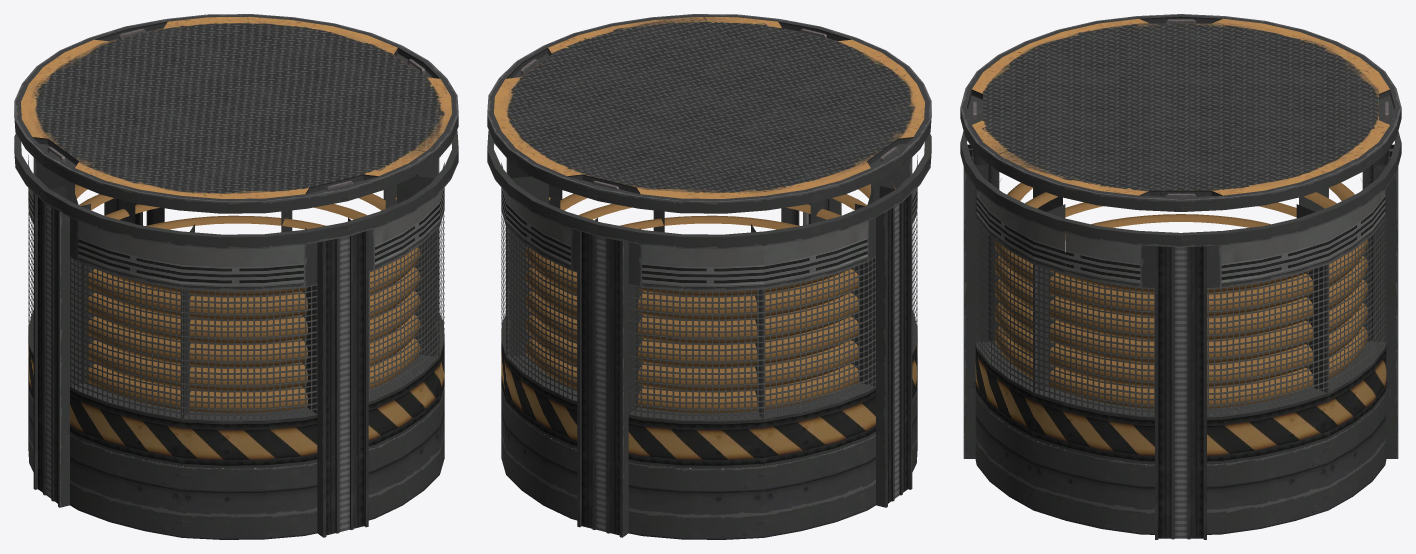
3 views of the same model, side by side, from view 1: azimuth 30°, elevation 25°; view 2: azimuth 150°, elevation 25°; view 3: azimuth 270°, elevation 25° (orthographic).
Visible parts, largest first — view 1: body0_model0_lod0_mesh8, body0_model0_lod0_mesh2, body0_model0_lod0_mesh9, body0_model0_lod0_mesh0, body0_model0_lod0_mesh1, body0_model0_lod0_mesh6, body0_model0_lod0_mesh7, body0_model0_lod0_mesh5, body0_model0_lod0_mesh3; view 2: body0_model0_lod0_mesh8, body0_model0_lod0_mesh2, body0_model0_lod0_mesh9, body0_model0_lod0_mesh0, body0_model0_lod0_mesh1, body0_model0_lod0_mesh6, body0_model0_lod0_mesh7, body0_model0_lod0_mesh5, body0_model0_lod0_mesh3; view 3: body0_model0_lod0_mesh2, body0_model0_lod0_mesh8, body0_model0_lod0_mesh9, body0_model0_lod0_mesh0, body0_model0_lod0_mesh6, body0_model0_lod0_mesh1, body0_model0_lod0_mesh7, body0_model0_lod0_mesh5, body0_model0_lod0_mesh3.
Boxes of the visible parts, x1=… form: body0_model0_lod0_mesh8: x1=21, y1=16, x2=451, y2=198; body0_model0_lod0_mesh2: x1=14, y1=14, x2=458, y2=539; body0_model0_lod0_mesh9: x1=28, y1=202, x2=444, y2=421; body0_model0_lod0_mesh0: x1=50, y1=182, x2=420, y2=413; body0_model0_lod0_mesh1: x1=33, y1=176, x2=439, y2=537; body0_model0_lod0_mesh6: x1=28, y1=333, x2=444, y2=468; body0_model0_lod0_mesh7: x1=28, y1=155, x2=444, y2=287; body0_model0_lod0_mesh5: x1=28, y1=29, x2=444, y2=420; body0_model0_lod0_mesh3: x1=46, y1=204, x2=349, y2=531; body0_model0_lod0_mesh8: x1=494, y1=17, x2=924, y2=198; body0_model0_lod0_mesh2: x1=487, y1=14, x2=931, y2=539; body0_model0_lod0_mesh9: x1=501, y1=202, x2=917, y2=421; body0_model0_lod0_mesh0: x1=525, y1=182, x2=895, y2=413; body0_model0_lod0_mesh1: x1=506, y1=176, x2=912, y2=537; body0_model0_lod0_mesh6: x1=501, y1=333, x2=917, y2=468; body0_model0_lod0_mesh7: x1=501, y1=155, x2=917, y2=287; body0_model0_lod0_mesh5: x1=501, y1=29, x2=917, y2=420; body0_model0_lod0_mesh3: x1=596, y1=204, x2=899, y2=531; body0_model0_lod0_mesh2: x1=960, y1=14, x2=1401, y2=534; body0_model0_lod0_mesh8: x1=972, y1=18, x2=1389, y2=195; body0_model0_lod0_mesh9: x1=975, y1=214, x2=1386, y2=417; body0_model0_lod0_mesh0: x1=994, y1=178, x2=1367, y2=408; body0_model0_lod0_mesh6: x1=975, y1=343, x2=1386, y2=464; body0_model0_lod0_mesh1: x1=967, y1=144, x2=1394, y2=539; body0_model0_lod0_mesh7: x1=976, y1=190, x2=1385, y2=284; body0_model0_lod0_mesh5: x1=968, y1=23, x2=1393, y2=416; body0_model0_lod0_mesh3: x1=969, y1=148, x2=1392, y2=538.
Size of the model in its own units: 272 by 232 by 272.
Materials: 10 (10 with a texture image).
